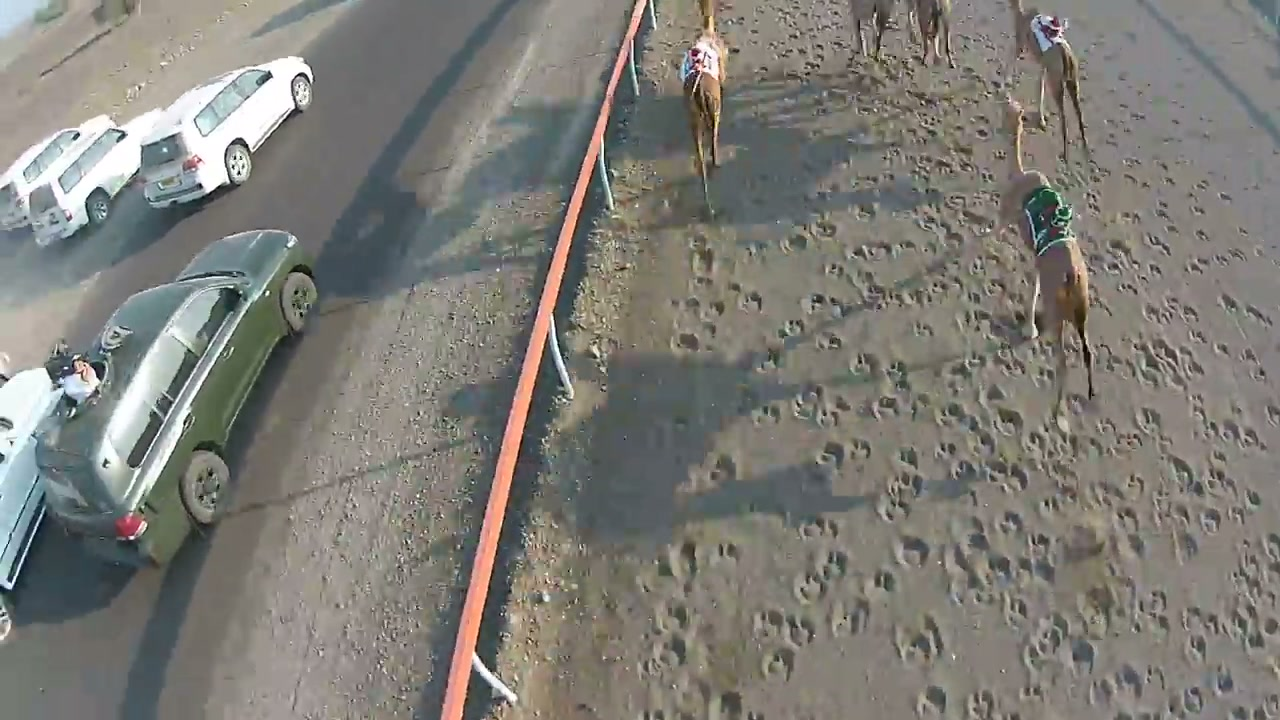animal_foot_print: (661, 77, 1279, 719), (941, 511, 1058, 603), (638, 538, 741, 596), (641, 597, 704, 676), (649, 677, 763, 719), (1086, 661, 1181, 710), (1131, 336, 1205, 388), (1195, 406, 1265, 452), (1022, 612, 1072, 676), (793, 549, 850, 604), (893, 615, 946, 666), (876, 470, 924, 523), (792, 384, 851, 427), (752, 608, 815, 648), (928, 457, 982, 502), (642, 632, 692, 675), (1130, 588, 1170, 640), (658, 540, 700, 589), (689, 453, 739, 492), (816, 437, 871, 472), (1142, 296, 1198, 329), (1218, 293, 1272, 327), (830, 596, 871, 639), (737, 386, 781, 426), (934, 399, 983, 432), (986, 458, 1029, 494), (801, 293, 850, 323), (673, 295, 725, 323), (944, 353, 988, 386), (894, 534, 932, 569), (964, 688, 1005, 719), (861, 394, 909, 420), (862, 567, 898, 601), (655, 601, 692, 634), (762, 646, 796, 681), (793, 571, 829, 604), (999, 591, 1028, 631), (752, 608, 786, 642), (815, 549, 850, 582), (915, 684, 948, 719), (964, 426, 997, 460), (673, 323, 713, 351), (992, 405, 1024, 436), (849, 352, 883, 381), (691, 237, 716, 276), (786, 615, 816, 647), (799, 517, 839, 541), (994, 347, 1026, 377), (816, 441, 847, 471), (1134, 406, 1163, 437), (755, 345, 785, 372), (780, 230, 811, 253), (750, 404, 781, 426), (737, 289, 763, 313), (778, 319, 806, 340), (815, 331, 843, 350), (824, 262, 847, 279), (1264, 402, 1279, 427)
